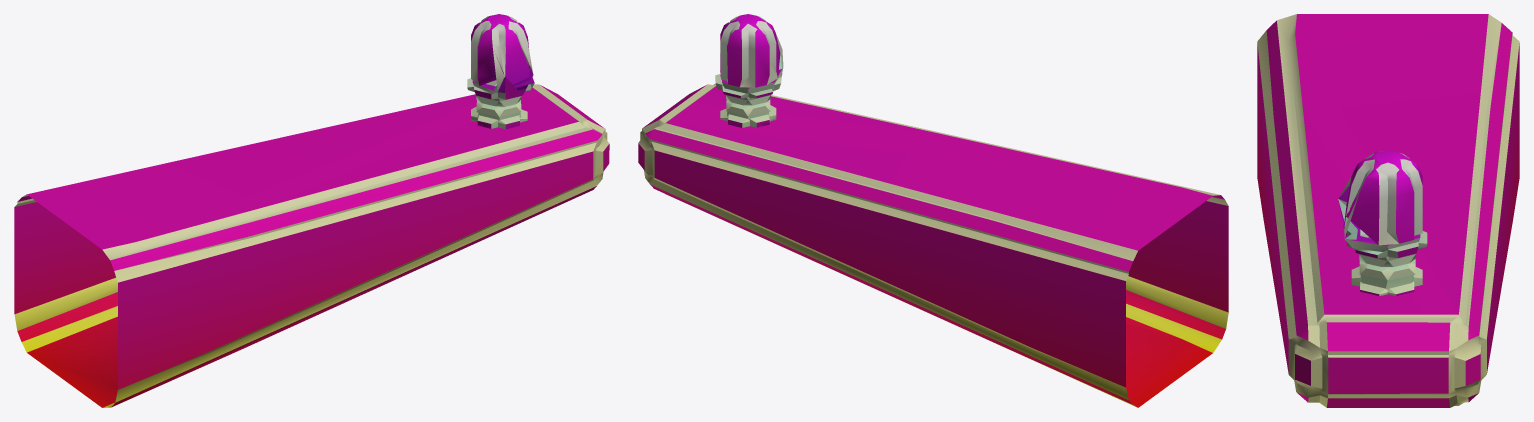
File: cs_ship_mast.glb
3 renders of one model, left to right at view 1: azimuth 30°, elevation 25°; view 2: azimuth 150°, elevation 25°; view 3: azimuth 270°, elevation 25°, orthographic. The views are drawn at different scales.
Parts seen in each view (by area): view 1: cs_ship_mast; view 2: cs_ship_mast; view 3: cs_ship_mast.
Part boxes in pixels (bbox=[...]): cs_ship_mast: bbox=[14, 14, 609, 407]; cs_ship_mast: bbox=[638, 14, 1228, 407]; cs_ship_mast: bbox=[1257, 14, 1519, 407].
Bounding box in the file's own units: 3.07 × 1.46 × 1.06.
